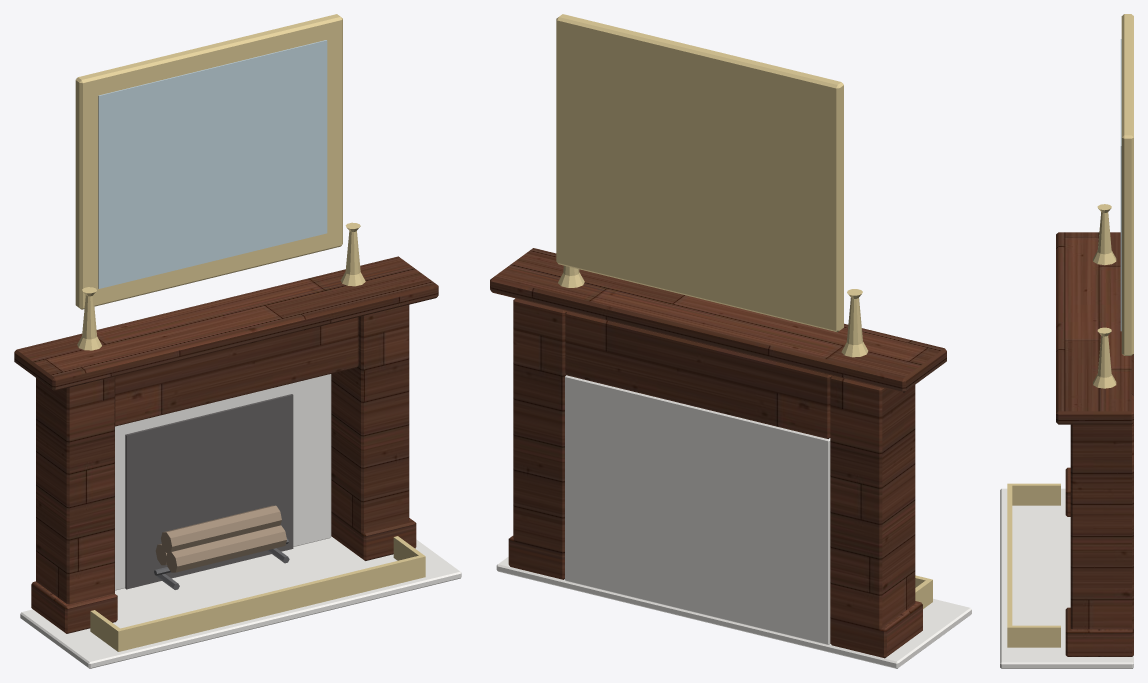
Rendered from fireplace.glb.
The picture shows the model from 3 angles, left to right: view 1: azimuth 30°, elevation 25°; view 2: azimuth 150°, elevation 25°; view 3: azimuth 270°, elevation 25°; orthographic projection. The views are drawn at different scales.
Visible parts, largest first — view 1: fireplace_dkwood, fireplace_glass, fireplace_brass, fireplace_marble_w, fireplace_dark, fireplace_bark; view 2: fireplace_brass, fireplace_dkwood, fireplace_marble_w; view 3: fireplace_dkwood, fireplace_marble_w, fireplace_brass, fireplace_glass.
Boxes of the visible parts, <box> form: fireplace_dkwood: <box>14,256,438,633</box>; fireplace_glass: <box>98,40,327,288</box>; fireplace_brass: <box>75,14,425,651</box>; fireplace_marble_w: <box>20,374,461,668</box>; fireplace_dark: <box>125,394,293,589</box>; fireplace_bark: <box>155,505,286,572</box>; fireplace_brass: <box>556,14,932,608</box>; fireplace_dkwood: <box>490,248,946,658</box>; fireplace_marble_w: <box>496,375,971,668</box>; fireplace_dkwood: <box>1056,232,1133,656</box>; fireplace_marble_w: <box>1000,488,1133,668</box>; fireplace_brass: <box>1007,14,1133,647</box>; fireplace_glass: <box>1120,39,1121,331</box>.
Bounding box in the file's own units: 1.76 × 2.3 × 0.55.
7 materials, 1 textured.
